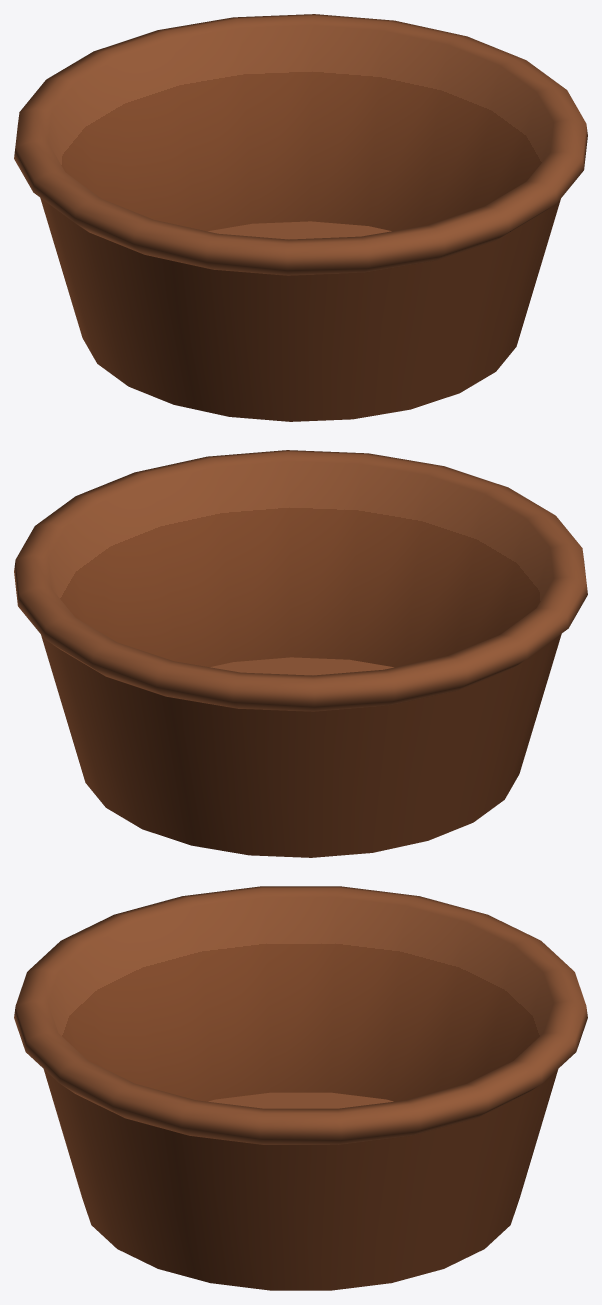
Rendered from babyCrocodile.fbx.
3 renders of one model, top to bottom at view 1: azimuth 30°, elevation 25°; view 2: azimuth 150°, elevation 25°; view 3: azimuth 270°, elevation 25°, orthographic.
Parts seen in each view (by area): view 1: Plane; view 2: Plane; view 3: Plane.
Boxes of the visible parts, x1,y1,x2,y2 form: Plane: [14, 14, 587, 421]; Plane: [14, 450, 587, 857]; Plane: [14, 886, 587, 1290].
Bounding box in the file's own units: 134 × 51.71 × 136.
